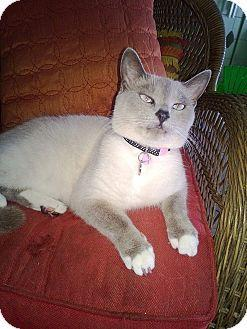siamese: (106, 43, 215, 162)
